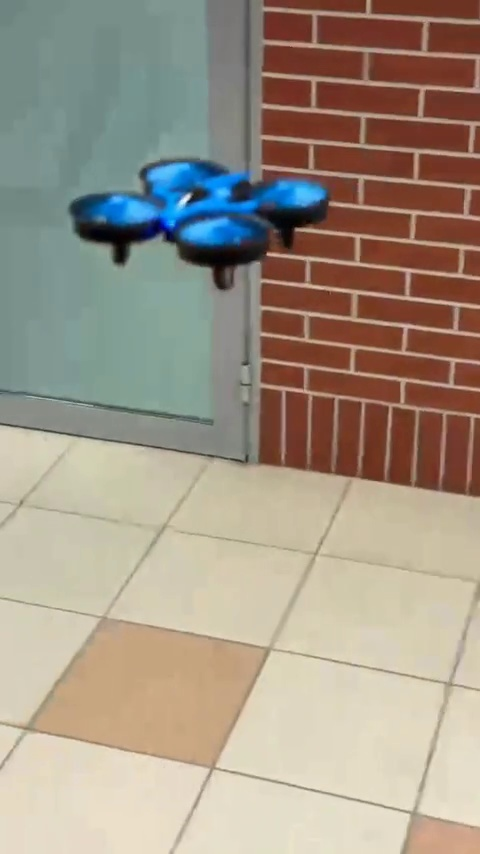drone: (68, 151, 321, 297)
